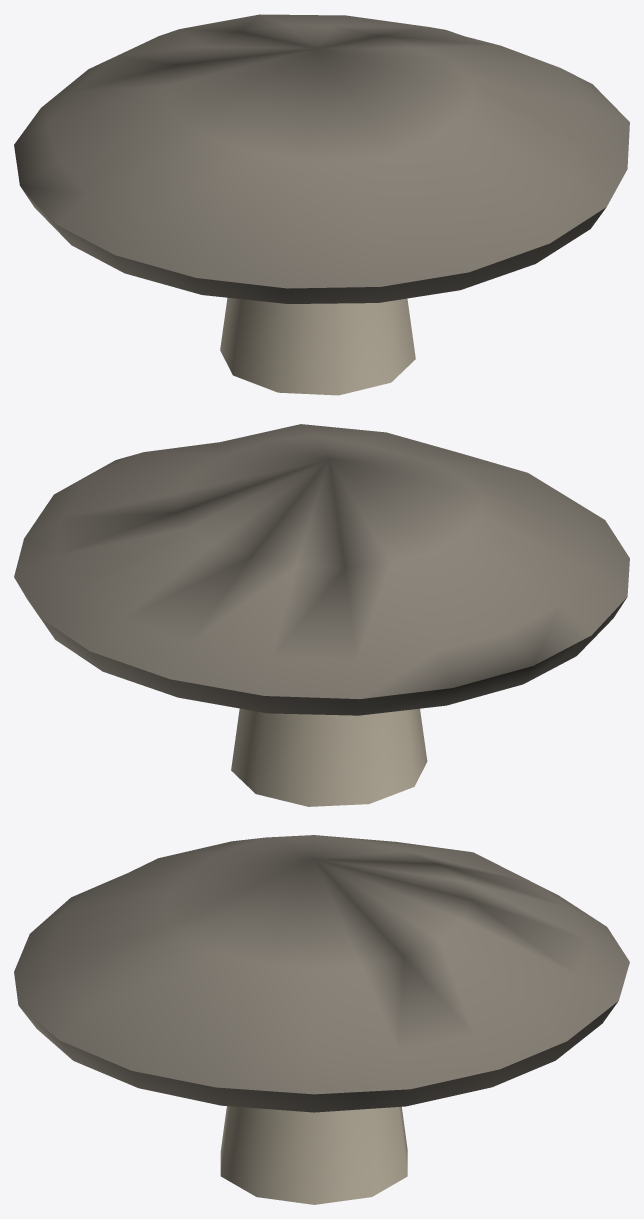
The model's file is stonecap.glb.
The picture shows the model from 3 angles, top to bottom: view 1: azimuth 30°, elevation 25°; view 2: azimuth 150°, elevation 25°; view 3: azimuth 270°, elevation 25°; orthographic projection.
Parts seen in each view (by area): view 1: stonecap; view 2: stonecap; view 3: stonecap.
Boxes of the visible parts, left/top/right/bottom form: stonecap: left=14, top=14, right=629, bottom=395; stonecap: left=14, top=424, right=629, bottom=806; stonecap: left=14, top=835, right=629, bottom=1204.
Size of the model in its own units: 0.055 by 0.03 by 0.055.
